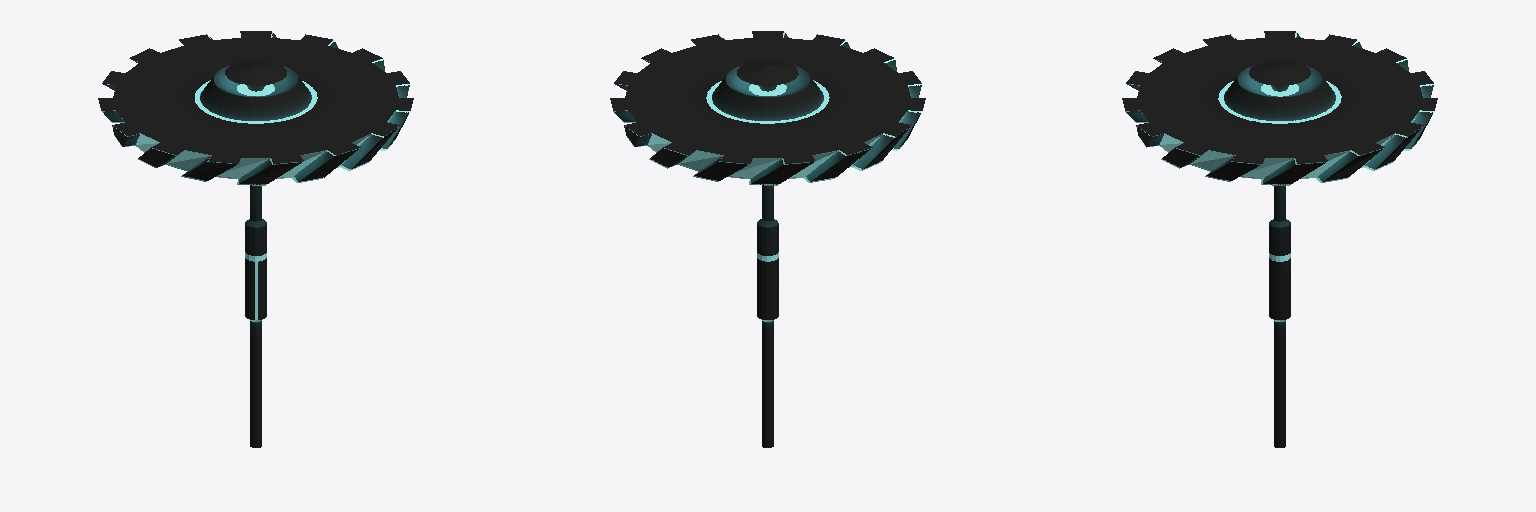
3 views of the same model, side by side, from view 1: azimuth 30°, elevation 25°; view 2: azimuth 150°, elevation 25°; view 3: azimuth 270°, elevation 25° (orthographic).
Visible parts, largest first — view 1: Gear.006_Gear.002; view 2: Gear.006_Gear.002; view 3: Gear.006_Gear.002.
Part boxes in pixels (x1,y1,x2,y2): Gear.006_Gear.002: (98,31,413,447); Gear.006_Gear.002: (610,31,925,447); Gear.006_Gear.002: (1122,31,1437,447).
Bounding box in the file's own units: 137 × 182 × 137.
1 materials, 1 textured.